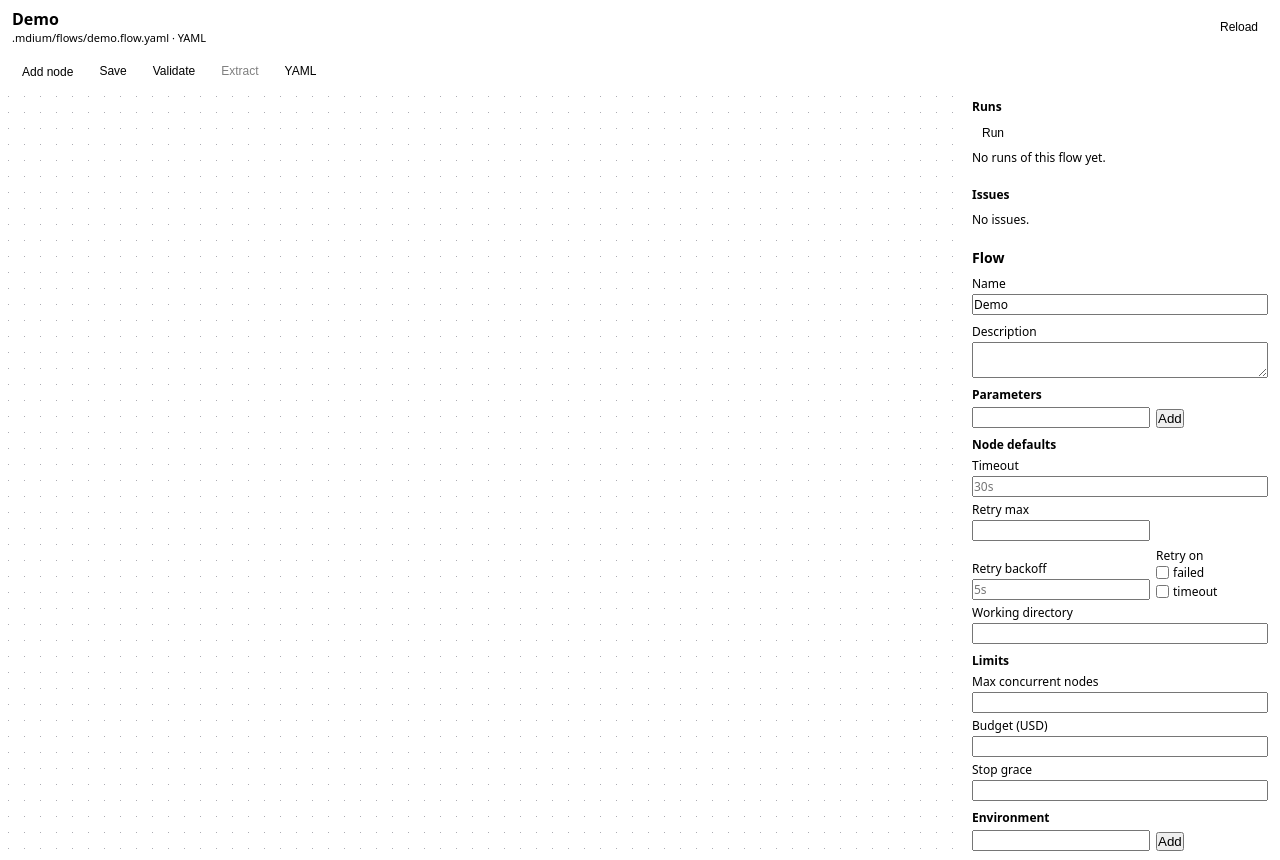
Test: flow workspace editing › closes the palette on an outside click
Click the button "Add node" at point(48, 72), box left=12, top=62, right=83, bottom=82
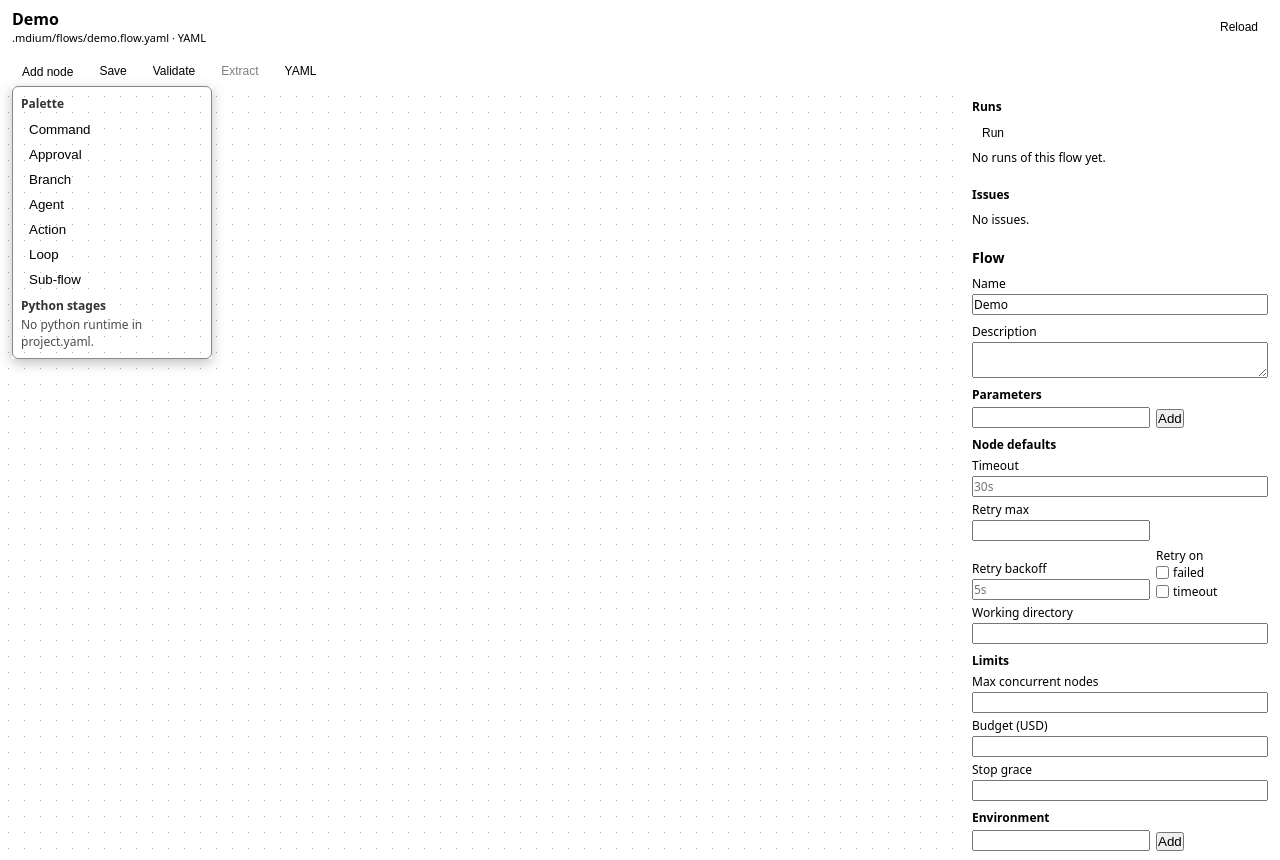
Result: the dialog with class "flow-palette" is shown at left=12, top=86, right=212, bottom=359
Press the mouse on the text with class "flow-workspace__name" at point(35, 19), box left=12, top=8, right=59, bottom=30
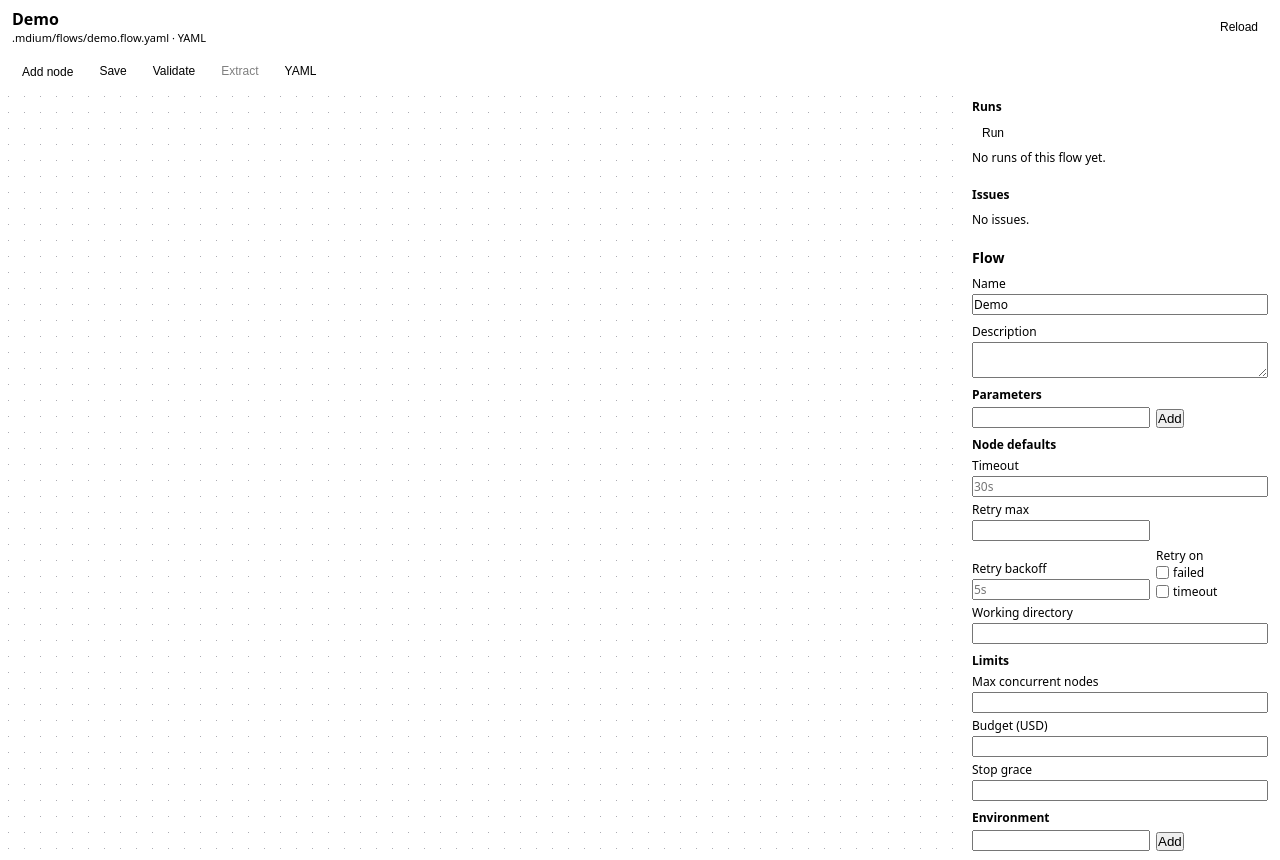
Result: the dialog with class "flow-palette" is gone
